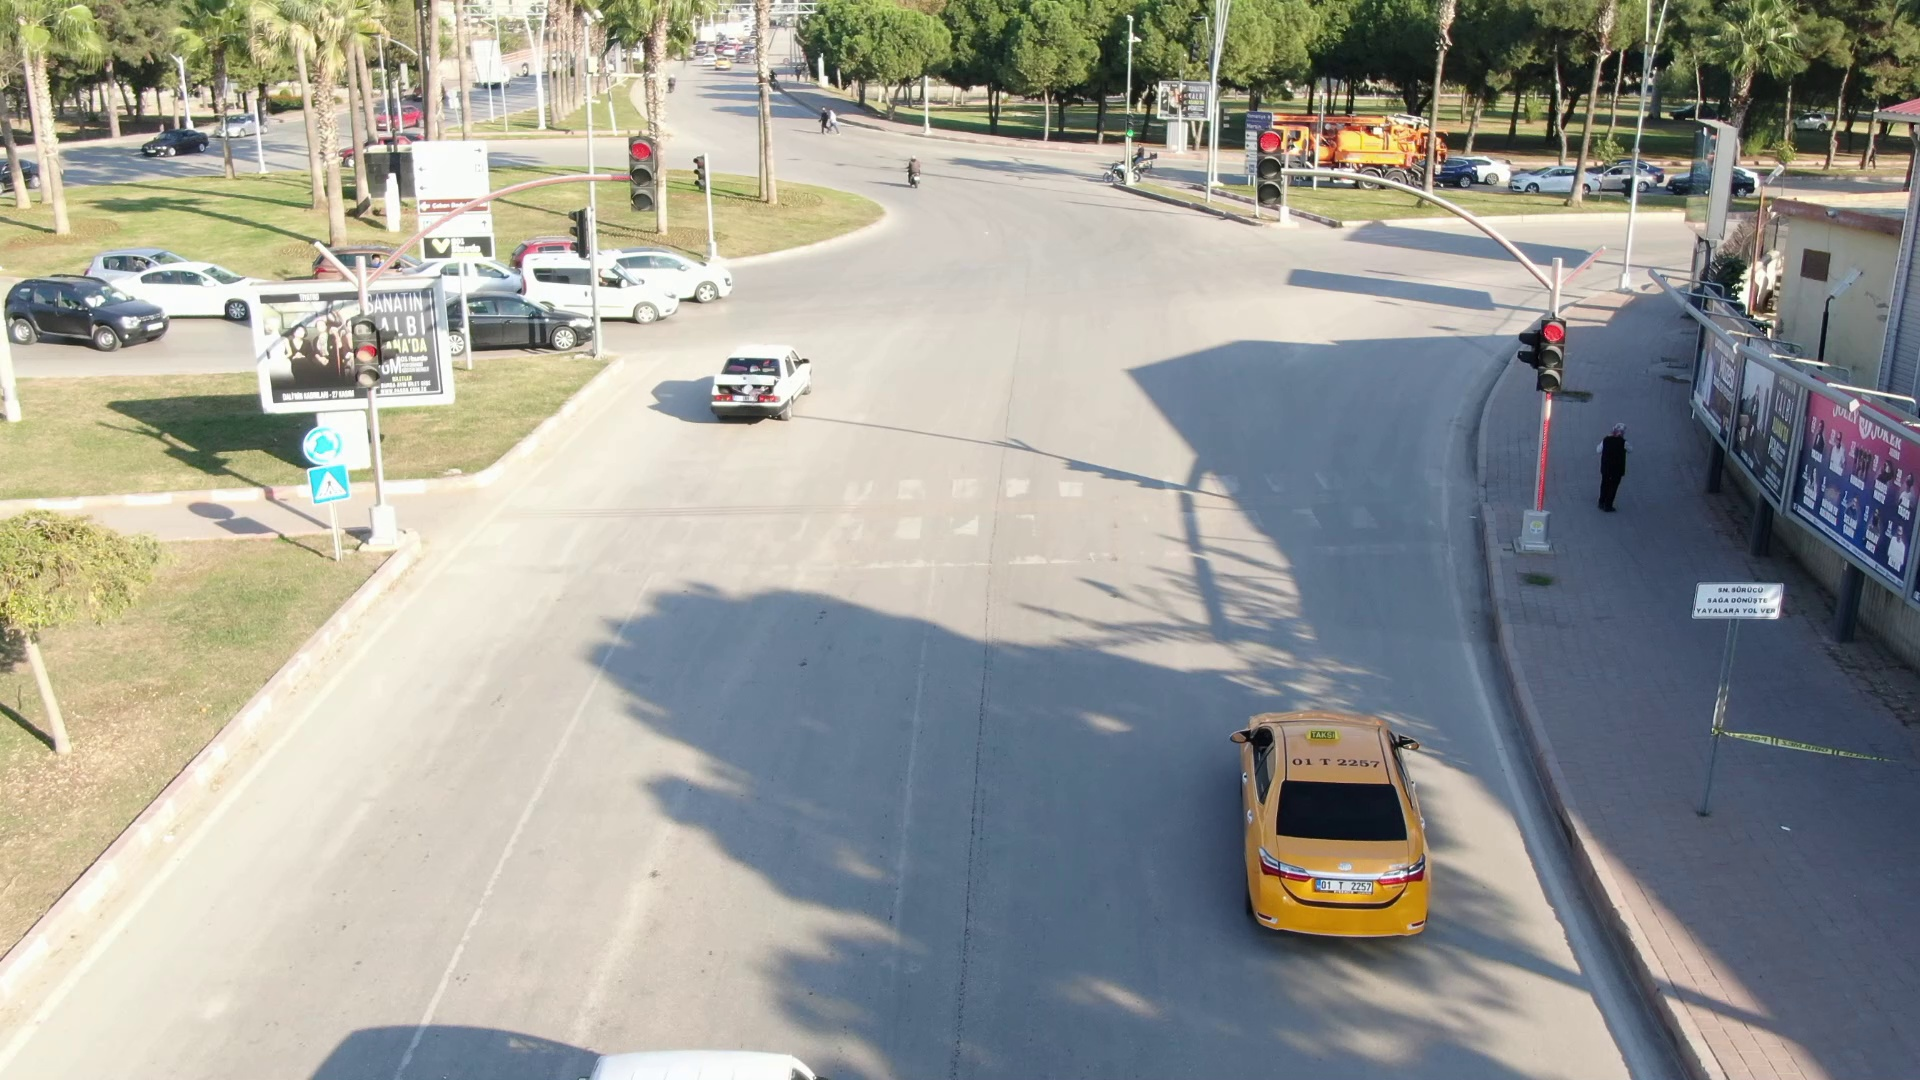car: (1223, 694, 1457, 935), (1, 269, 192, 355), (682, 323, 814, 421), (512, 247, 680, 317), (453, 286, 606, 353), (606, 235, 737, 302)
person: (1588, 408, 1633, 515), (894, 147, 925, 184)
